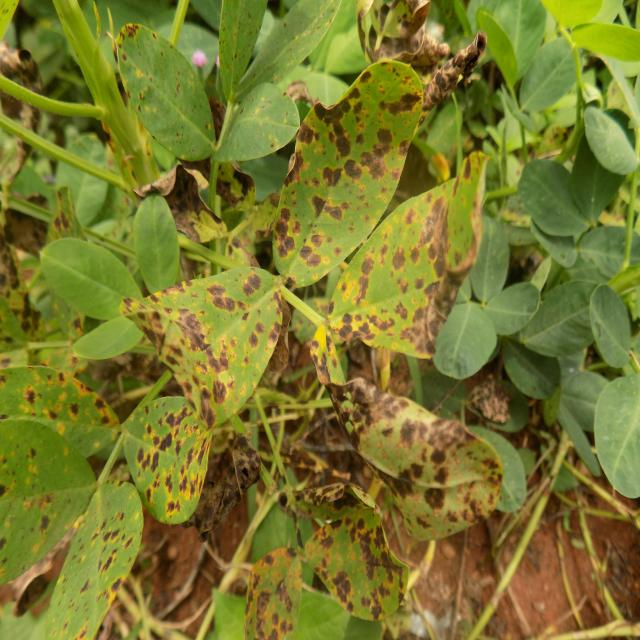Ground nut_tikka leaf spot: (276, 58, 421, 287), (326, 380, 489, 544), (124, 273, 294, 425), (113, 22, 215, 165), (111, 396, 216, 528)
